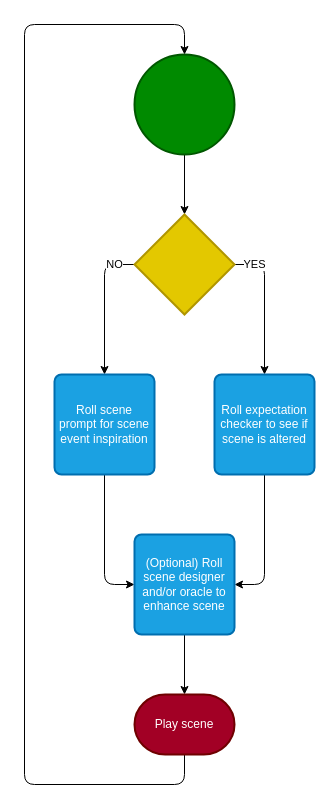
Image size: 333x810. Some labels were removed from this diagram. The shapes that lost their labels are listed below. From the top down, each one's centre as x and y in pixels, then its label:
point 184,104: New Scene
point 184,264: Is the scene content known?
